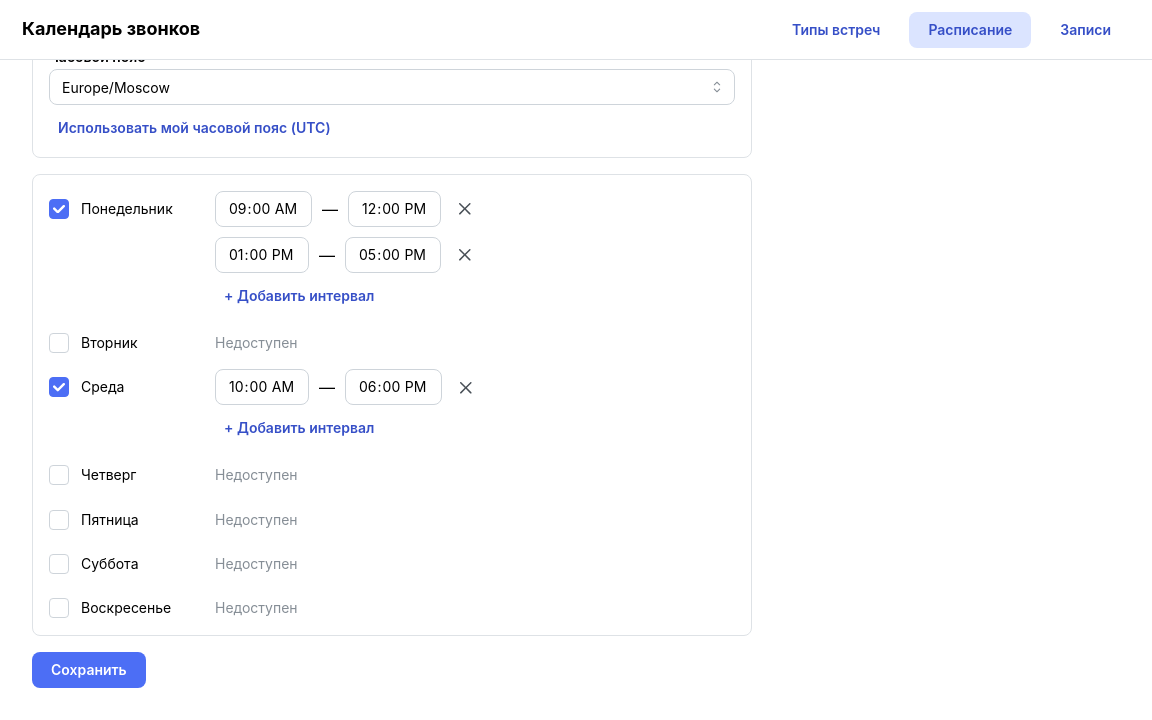
Test: SchedulePage › shows server validation errors
(page scrolled)
Step 1. Click the button "Сохранить" → (89, 670), box left=32, top=652, right=146, bottom=688
(page scrolled)
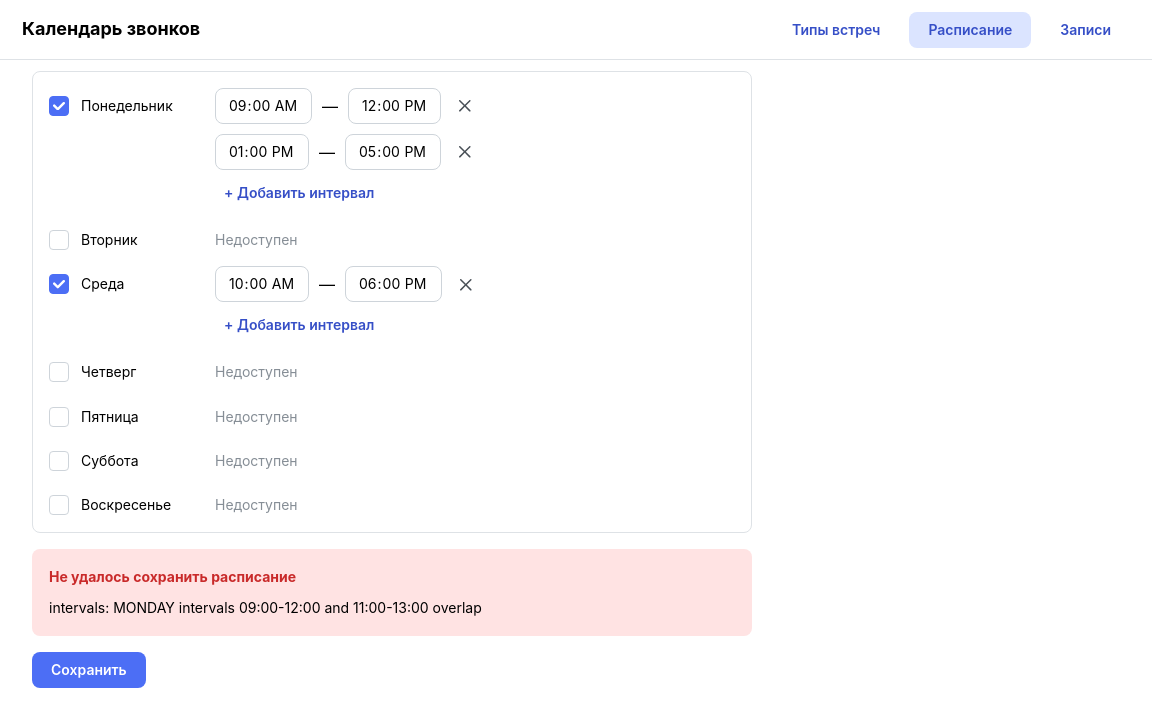
Now the text "overlap" is shown, box left=49, top=599, right=482, bottom=616
